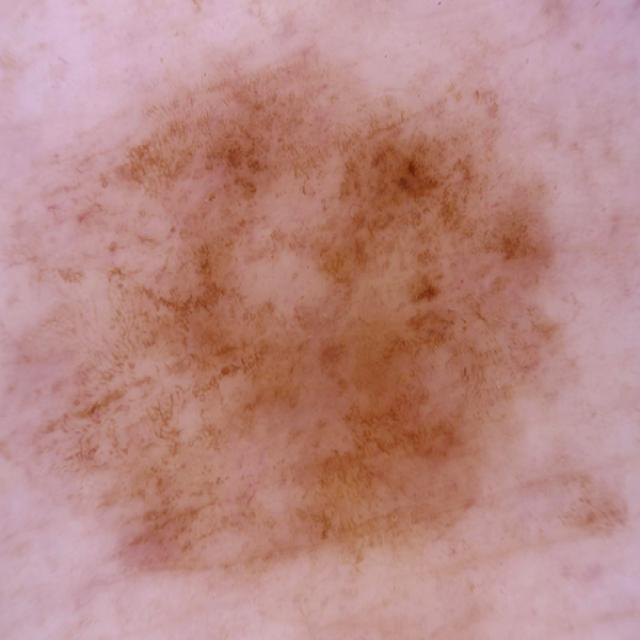Skin-Cancer Pigmented benign keratosis: (2, 5, 605, 640)
